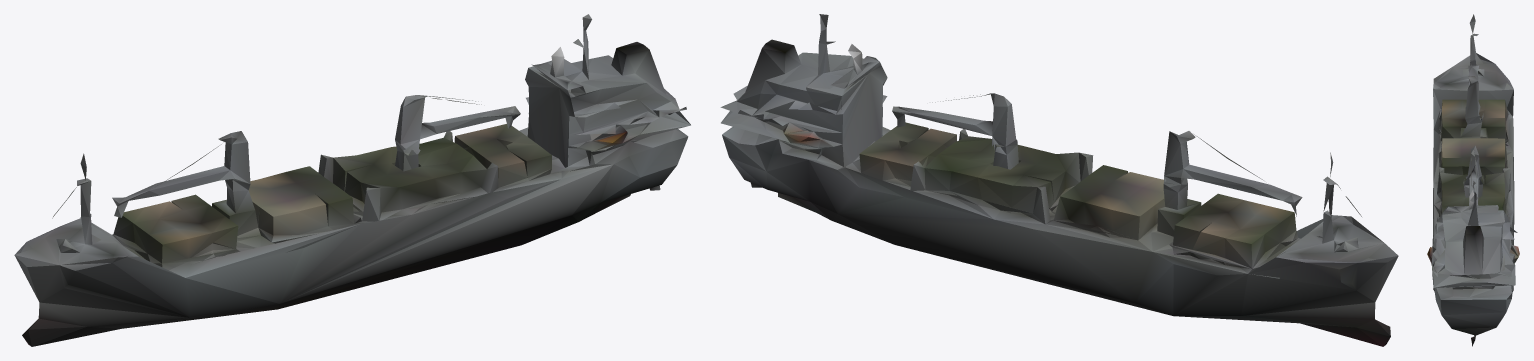
Rendered from transport_lod1.glb.
3 renders of one model, left to right at view 1: azimuth 30°, elevation 25°; view 2: azimuth 150°, elevation 25°; view 3: azimuth 270°, elevation 25°, orthographic. The views are drawn at different scales.
Visible parts, largest first — view 1: transport; view 2: transport; view 3: transport.
Boxes of the visible parts, box(x1,y1,x2,y2) form: transport: box(14, 14, 690, 346); transport: box(720, 14, 1398, 346); transport: box(1427, 14, 1519, 346).
Size of the model in its own units: 1.9 by 0.5453 by 0.3213.
